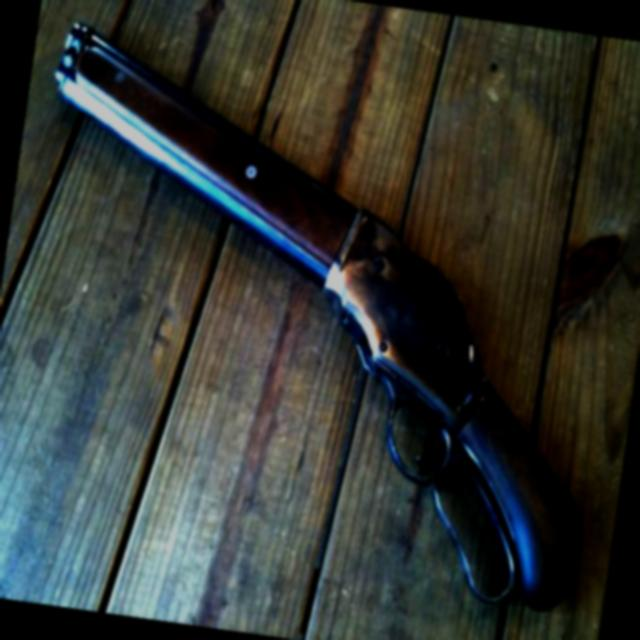shotgun: (0, 13, 640, 632)
